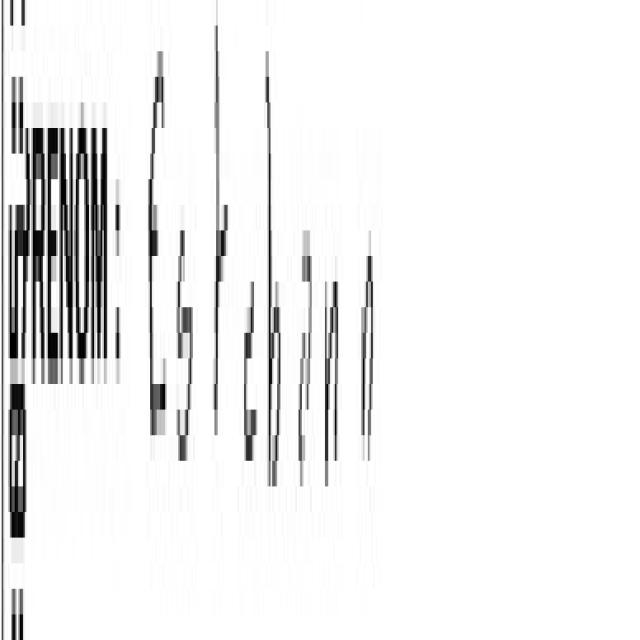A: (293, 72, 317, 640)
B: (263, 58, 287, 640)
E: (145, 72, 168, 609), (241, 126, 260, 636)
N: (353, 112, 385, 640), (321, 58, 343, 609)
S: (177, 85, 200, 636)
T: (203, 5, 232, 640)
